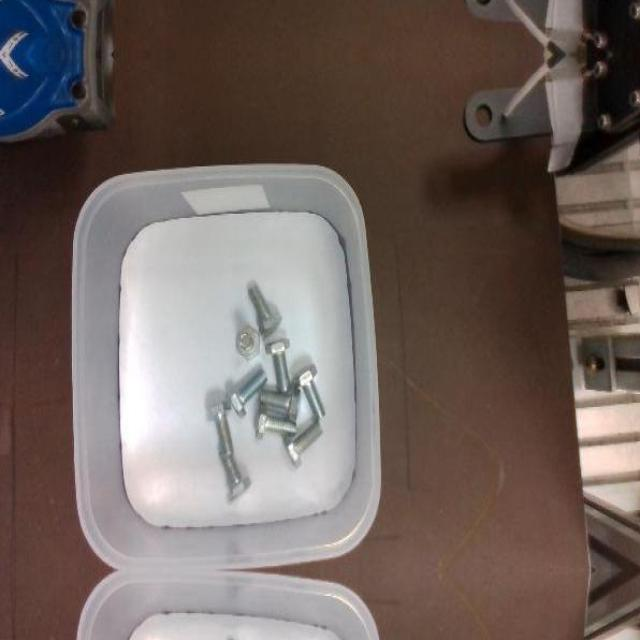screw: (228, 367, 268, 417), (284, 418, 323, 468), (292, 364, 325, 422), (249, 284, 284, 338), (220, 450, 252, 501), (207, 399, 235, 457), (254, 404, 296, 439), (261, 387, 302, 422), (265, 338, 291, 392), (237, 326, 260, 359)
